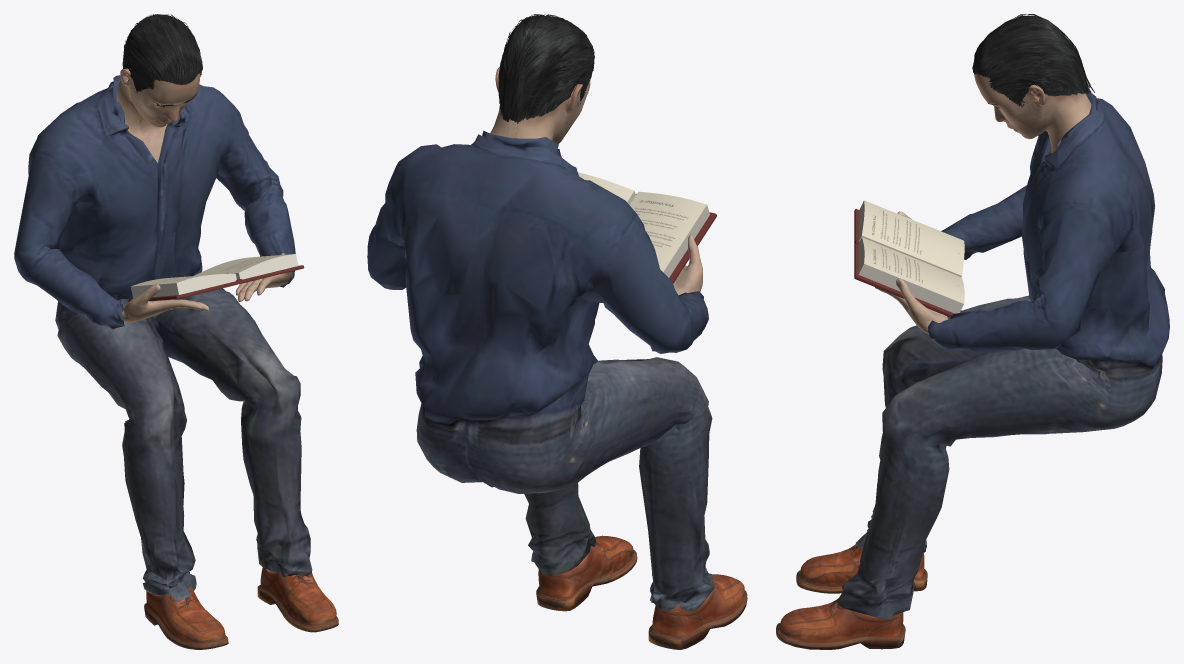
The model's file is analyst.glb.
The picture shows the model from 3 angles, left to right: view 1: azimuth 30°, elevation 25°; view 2: azimuth 150°, elevation 25°; view 3: azimuth 270°, elevation 25°; orthographic projection. The views are drawn at different scales.
Parts seen in each view (by area): view 1: male_casualsuit01, shoes01, Avery | anatomical body, short04, Book | left page block, Book | right page block, Book | right printed page; view 2: male_casualsuit01, short04, shoes01, Avery | anatomical body, Book | left printed page, Book | left page block; view 3: male_casualsuit01, shoes01, short04, Avery | anatomical body, Book | left printed page, Book | right printed page, Book | right page block, Book | right hard cover.
Part boxes in pixels (x1=…): male_casualsuit01: x1=14, y1=75, x2=312, y2=601; shoes01: x1=144, y1=567, x2=338, y2=649; Avery | anatomical body: x1=116, y1=68, x2=292, y2=322; short04: x1=122, y1=14, x2=202, y2=93; Book | left page block: x1=131, y1=273, x2=236, y2=298; Book | right page block: x1=227, y1=254, x2=298, y2=279; Book | right printed page: x1=194, y1=254, x2=293, y2=275; male_casualsuit01: x1=367, y1=130, x2=714, y2=611; short04: x1=498, y1=14, x2=594, y2=124; shoes01: x1=536, y1=535, x2=747, y2=649; Avery | anatomical body: x1=490, y1=66, x2=702, y2=295; Book | left printed page: x1=629, y1=191, x2=706, y2=271; Book | left page block: x1=663, y1=205, x2=709, y2=277; male_casualsuit01: x1=837, y1=91, x2=1169, y2=619; shoes01: x1=776, y1=544, x2=927, y2=649; short04: x1=972, y1=14, x2=1094, y2=107; Avery | anatomical body: x1=875, y1=73, x2=1091, y2=334; Book | left printed page: x1=862, y1=200, x2=964, y2=275; Book | right printed page: x1=862, y1=237, x2=964, y2=303; Book | right page block: x1=858, y1=237, x2=963, y2=313; Book | right hard cover: x1=854, y1=243, x2=961, y2=317.
Size of the model in its own units: 0.6829 by 1.35 by 0.8102.
Materials: 11 (11 with a texture image).
